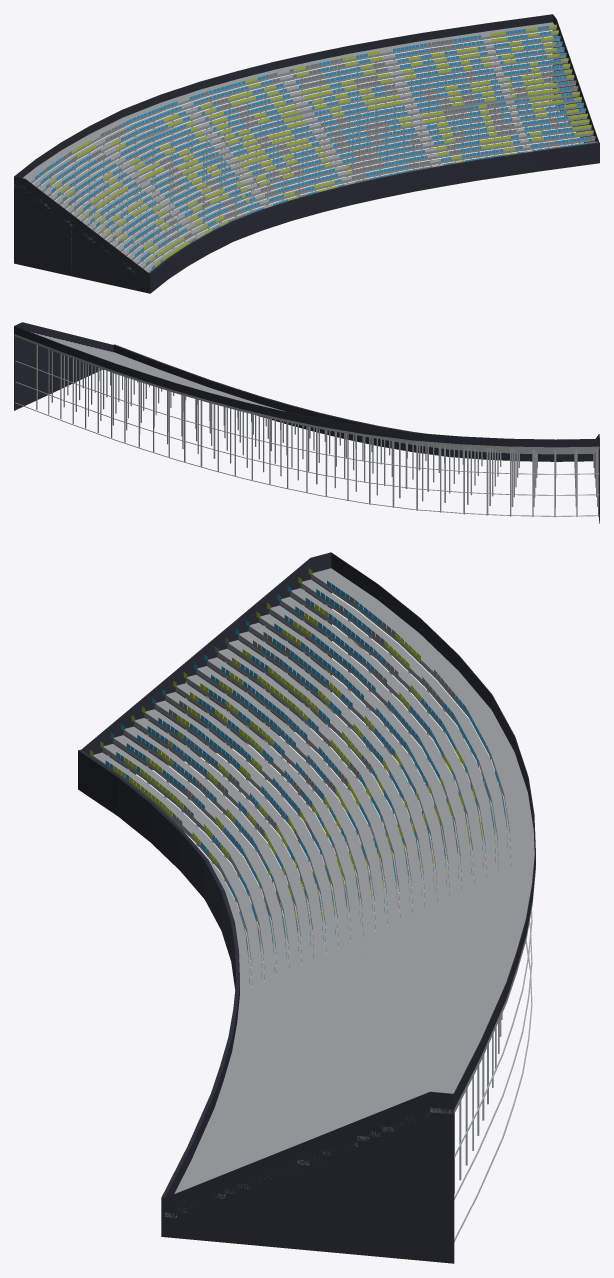
The model's file is sgp_stand_t1_curved_c.glb.
3 views of the same model, one above another, from view 1: azimuth 30°, elevation 25°; view 2: azimuth 150°, elevation 25°; view 3: azimuth 270°, elevation 25° (orthographic). The views are drawn at different scales.
Parts seen in each view (by area): view 1: singapore-turn1-grandstand; view 2: singapore-turn1-grandstand; view 3: singapore-turn1-grandstand.
Part boxes in pixels (x1,y1,x2,y2): singapore-turn1-grandstand: (14, 14, 599, 293); singapore-turn1-grandstand: (14, 322, 599, 523); singapore-turn1-grandstand: (78, 552, 535, 1263).
Bounding box in the file's own units: 83.24 × 12.14 × 29.71.
